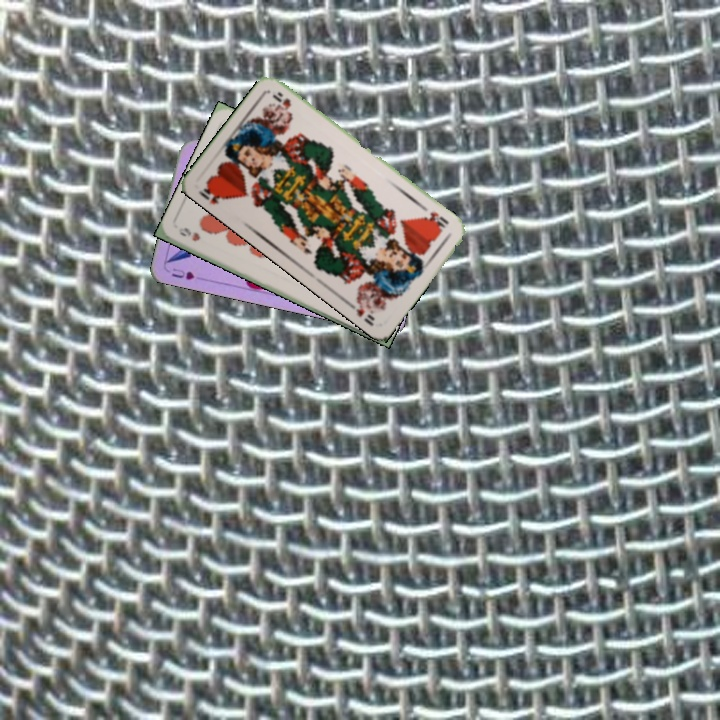H9: (174, 223, 203, 244)
HO: (199, 179, 230, 207), (421, 208, 451, 233)
HU: (168, 264, 197, 282)
